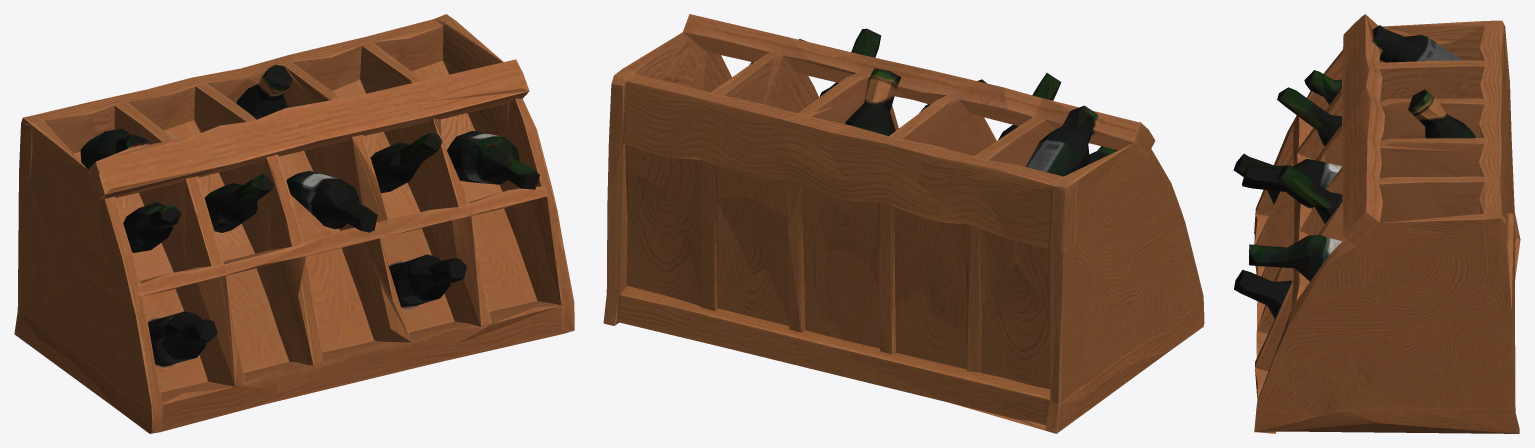
File: wine-rack.hq.glb
3 views of the same model, side by side, from view 1: azimuth 30°, elevation 25°; view 2: azimuth 150°, elevation 25°; view 3: azimuth 270°, elevation 25° (orthographic). The views are drawn at different scales.
Visible parts, largest first — view 1: output_unwrapped; view 2: output_unwrapped; view 3: output_unwrapped.
Boxes of the visible parts, x1,y1,x2,y2 form: output_unwrapped: (14,14,574,433); output_unwrapped: (603,14,1204,433); output_unwrapped: (1233,14,1520,433).
Bounding box in the file's own units: 1.9 × 1.08 × 1.16.
Materials: 1 (1 with a texture image).
